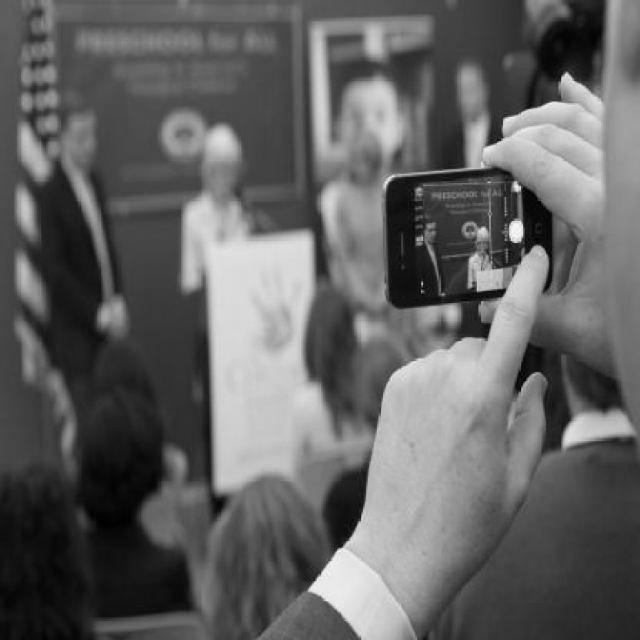fake: (396, 160, 542, 314)
